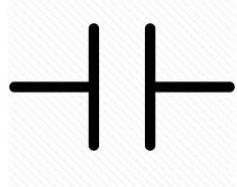Capacitor: (71, 17, 183, 155)
